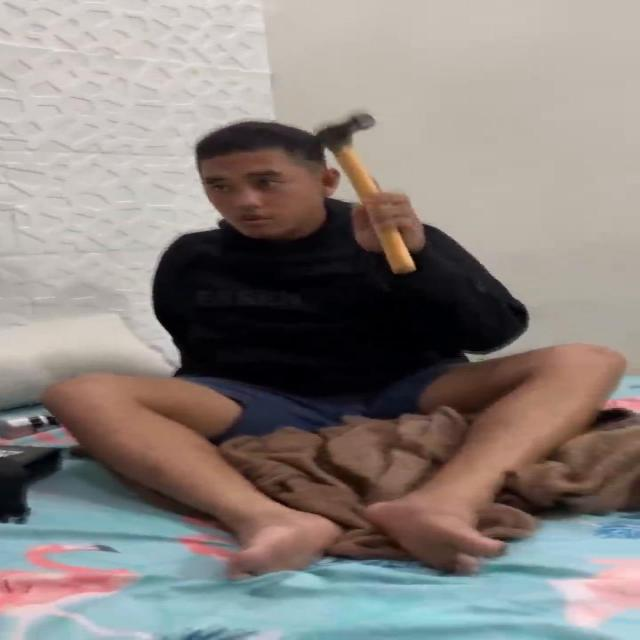hammer: (316, 112, 422, 275)
